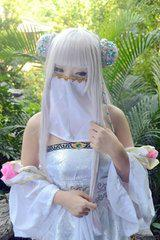OK: (54, 58, 101, 105)
